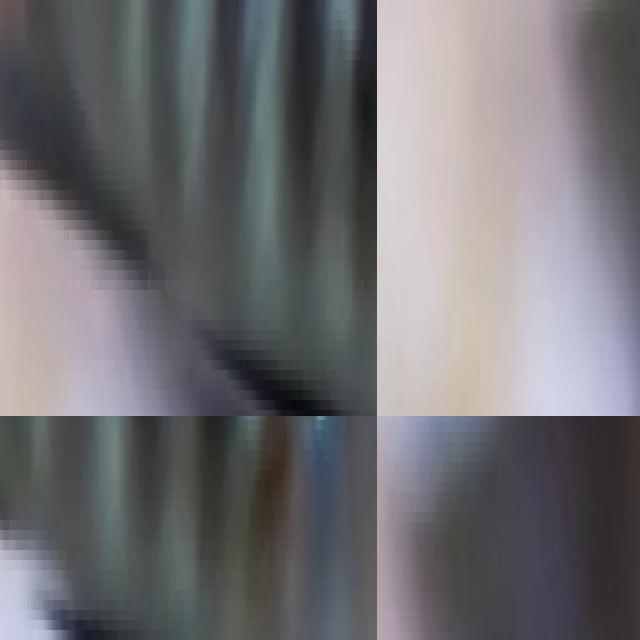fish: (0, 0, 377, 416), (0, 416, 377, 640)
